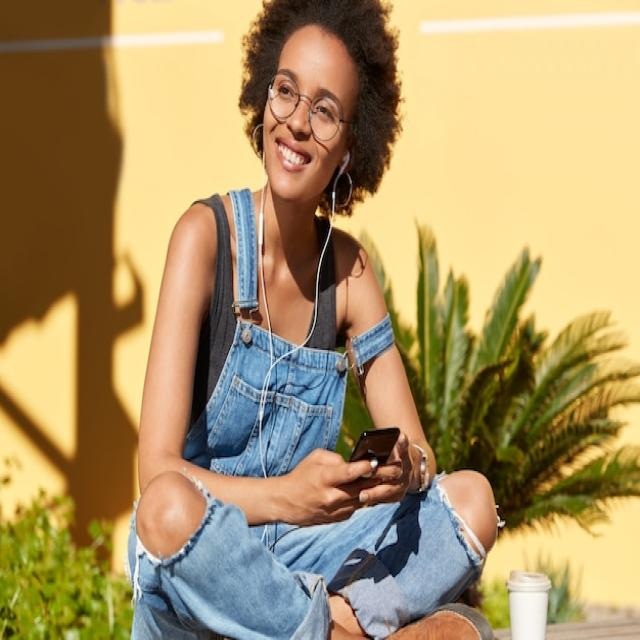Earphone: (260, 123, 352, 477)
